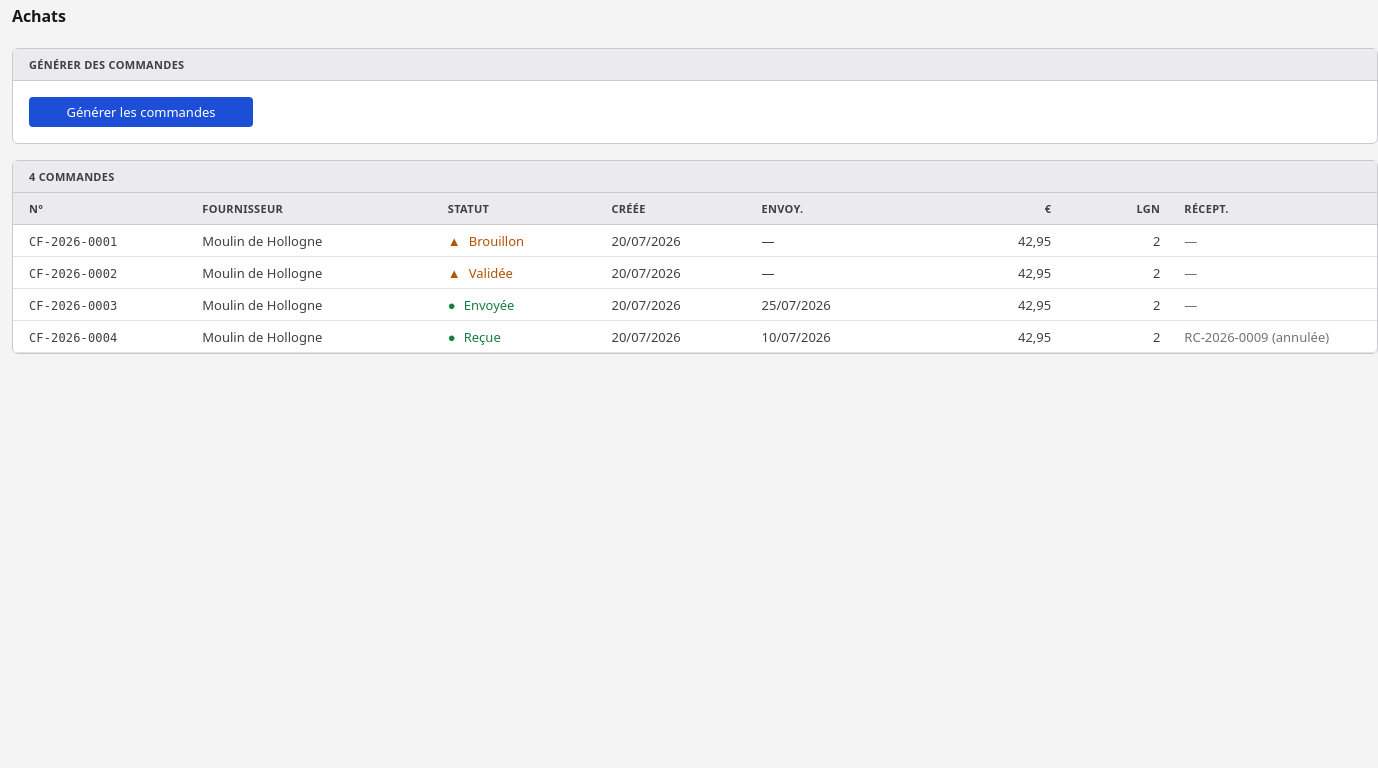
it: Achats — le mode d’envoi, affiché sans mentir › un envoi en MODE TEST le dit explicitement, et nomme le fichier écrit
Click the row "CF-2026-0003": x=695, y=305 x1=13 y1=289 x2=1377 y2=321
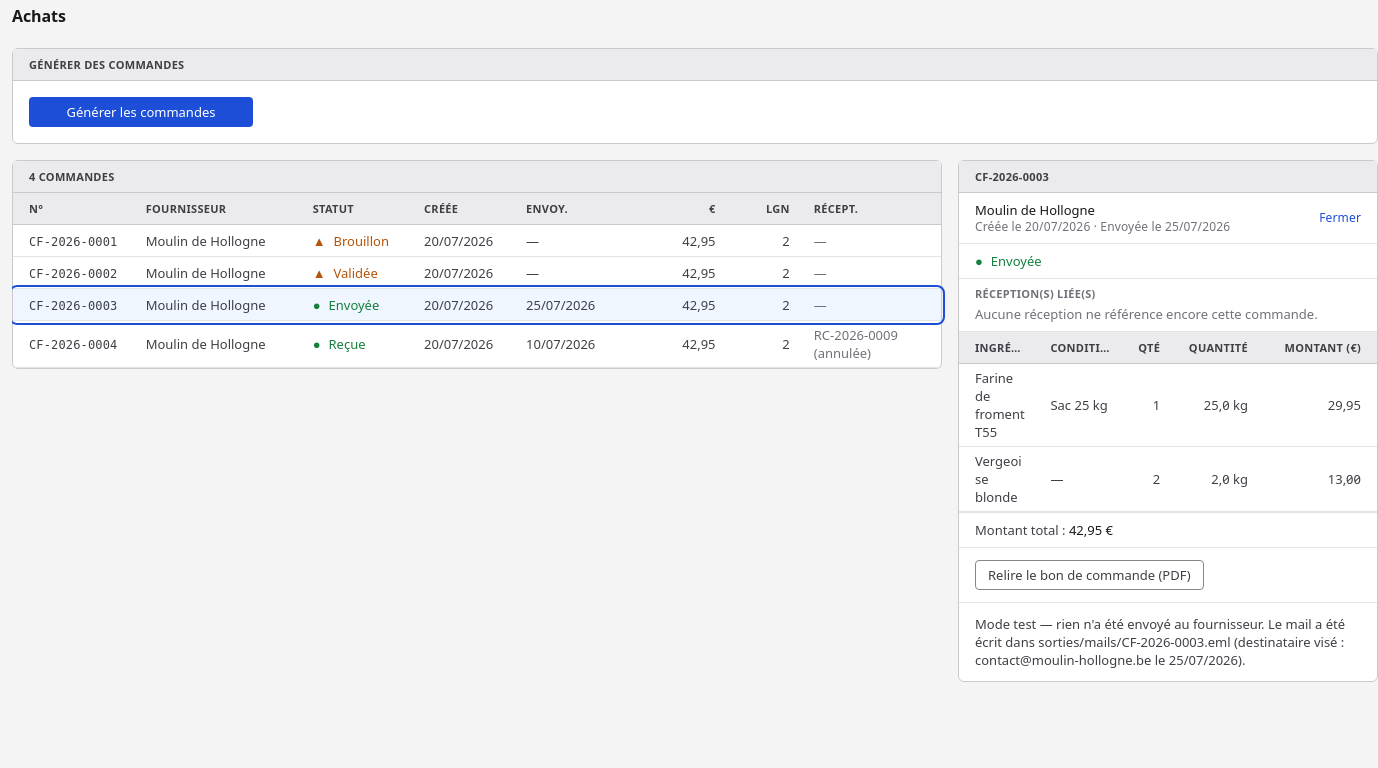
Expected: the heading "CF-2026-0003" is shown, x1=959 y1=161 x2=1377 y2=193
Expected: the text "Mode test" shows "rien n'a été envoyé au fournisseur", x1=975 y1=615 x2=1345 y2=669
Expected: the text "Mode test" shows "sorties/mails/CF-2026-0003.eml", x1=975 y1=615 x2=1345 y2=669
